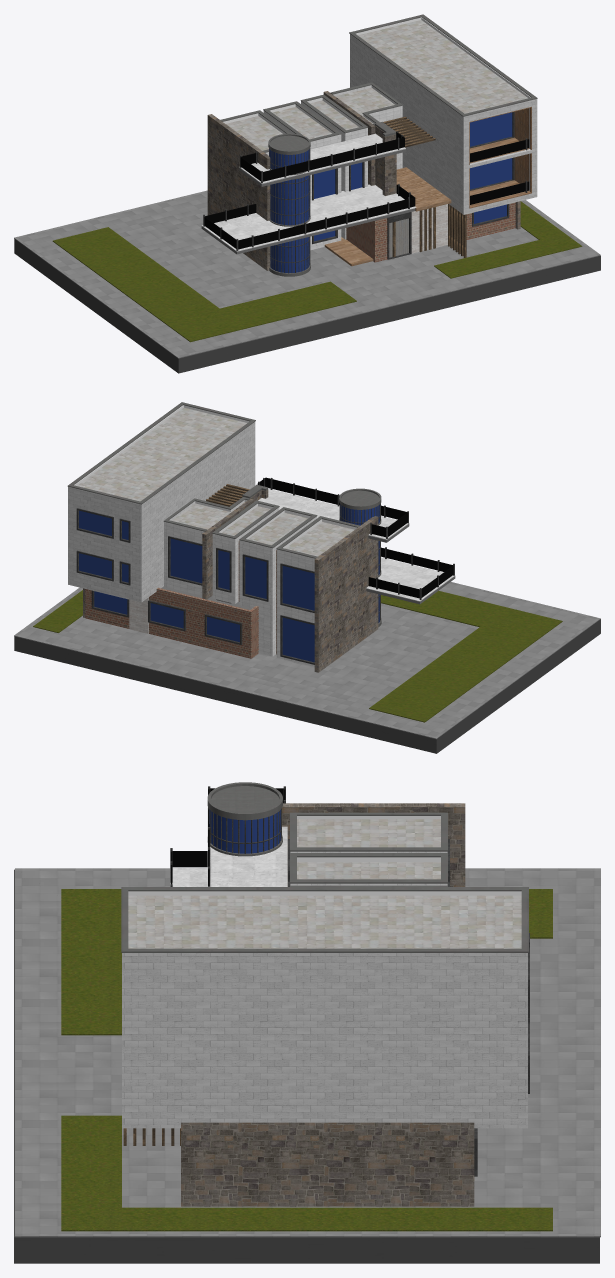
The model's file is villa3.glb.
3 renders of one model, top to bottom at view 1: azimuth 30°, elevation 25°; view 2: azimuth 150°, elevation 25°; view 3: azimuth 270°, elevation 25°, orthographic. The views are drawn at different scales.
Parts seen in each view (by area): view 1: Box014_21 - Default_0, Line035_22 - Default_0, Line002_Wall Paint_0, Box013_Material #22_0, Rectangle003_02 - Default_0, Box056_Metal_0, Box053_03 - Default_0, Cone002_13 - Brushed Metal #2_0, Line044_24 - Default_0, Line038_05 - Default_0, Line001_11 - Default_0, Shape001_15 - Glossy Plastic_0 (+28 smaller); view 2: Box014_21 - Default_0, Line002_Wall Paint_0, Line035_22 - Default_0, Box013_Material #22_0, Box056_Metal_0, Rectangle003_02 - Default_0, Line001_11 - Default_0, Line007_06 - Default_0, Rectangle025_Solid Glass_0, Box053_03 - Default_0, Line008_06 - Default_0, Box054_03 - Default_0 (+26 smaller); view 3: Line002_Wall Paint_0, Box014_21 - Default_0, Box063_Metal_0, Rectangle003_02 - Default_0, Line044_24 - Default_0, Box013_Material #22_0, Line035_22 - Default_0, Rectangle025_Solid Glass_0, Rectangle008_02 - Default_0, Box056_Metal_0, Box054_03 - Default_0, Rectangle007_02 - Default_0 (+9 smaller).
Boxes of the visible parts, x1,y1,x2,y2 form: Box014_21 - Default_0: [14, 190, 600, 358]; Line035_22 - Default_0: [52, 227, 356, 342]; Line002_Wall Paint_0: [350, 18, 537, 214]; Box013_Material #22_0: [14, 239, 600, 373]; Rectangle003_02 - Default_0: [358, 20, 527, 113]; Box056_Metal_0: [207, 114, 270, 270]; Box053_03 - Default_0: [201, 184, 416, 251]; Cone002_13 - Brushed Metal #2_0: [269, 149, 309, 272]; Line044_24 - Default_0: [434, 201, 582, 278]; Line038_05 - Default_0: [204, 184, 415, 249]; Line001_11 - Default_0: [346, 202, 515, 262]; Shape001_15 - Glossy Plastic_0: [269, 148, 310, 273]; Box014_21 - Default_0: [14, 582, 600, 739]; Line002_Wall Paint_0: [68, 405, 255, 602]; Line035_22 - Default_0: [369, 590, 562, 722]; Box013_Material #22_0: [14, 619, 600, 753]; Box056_Metal_0: [314, 516, 378, 672]; Rectangle003_02 - Default_0: [77, 407, 246, 501]; Line001_11 - Default_0: [85, 587, 258, 658]; Line007_06 - Default_0: [239, 516, 316, 656]; Rectangle025_Solid Glass_0: [67, 402, 255, 504]; Box053_03 - Default_0: [366, 557, 455, 601]; Line008_06 - Default_0: [276, 549, 314, 666]; Box054_03 - Default_0: [258, 488, 409, 539]; Line002_Wall Paint_0: [122, 953, 527, 1128]; Box014_21 - Default_0: [15, 868, 600, 1237]; Box063_Metal_0: [181, 1122, 474, 1206]; Rectangle003_02 - Default_0: [128, 895, 521, 948]; Line044_24 - Default_0: [61, 1115, 552, 1231]; Box013_Material #22_0: [14, 869, 599, 1263]; Line035_22 - Default_0: [61, 889, 552, 1035]; Rectangle025_Solid Glass_0: [121, 887, 528, 952]; Rectangle008_02 - Default_0: [297, 819, 440, 847]; Box056_Metal_0: [282, 803, 465, 886]; Box054_03 - Default_0: [207, 807, 287, 886]; Rectangle007_02 - Default_0: [297, 862, 440, 879].
Size of the model in its own units: 0.304 by 0.1091 by 0.2051.
Materials: 22 (17 with a texture image).
